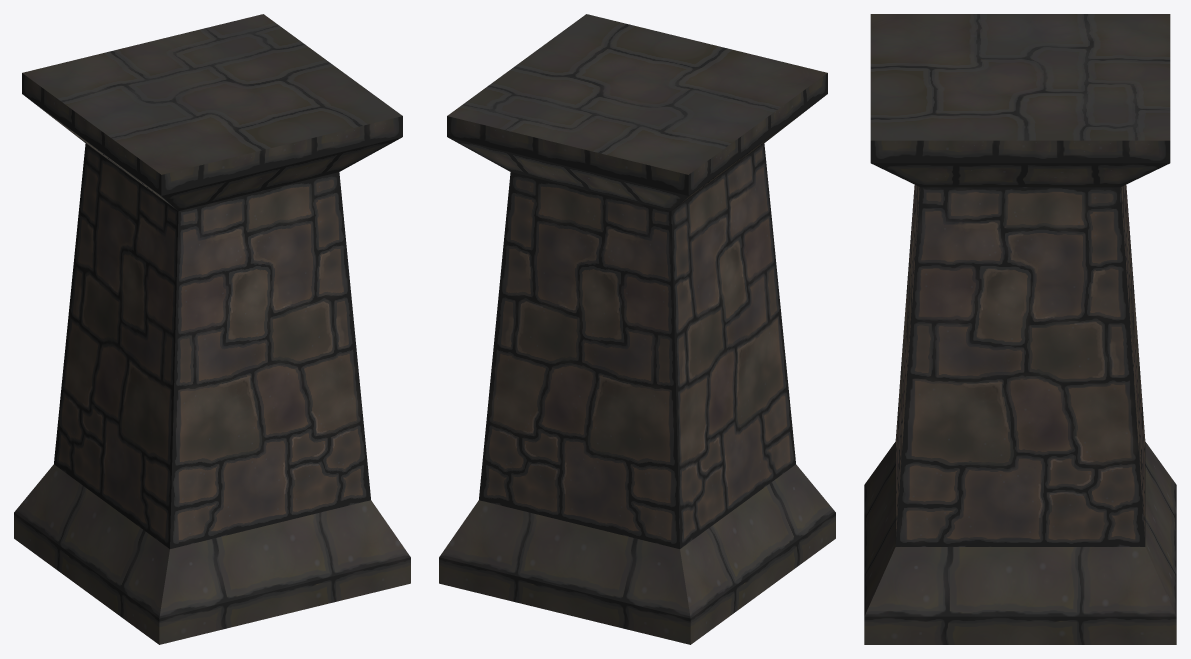
Rendered from Hand Painted Pillar.fbx.
3 renders of one model, left to right at view 1: azimuth 30°, elevation 25°; view 2: azimuth 150°, elevation 25°; view 3: azimuth 270°, elevation 25°, orthographic. The views are drawn at different scales.
Visible parts, largest first — view 1: Cube; view 2: Cube; view 3: Cube.
Boxes of the visible parts, x1,y1,x2,y2 form: Cube: (14, 14, 410, 644); Cube: (439, 14, 835, 644); Cube: (864, 14, 1176, 644).
Bounding box in the file's own units: 2.5 × 4.43 × 2.5.
